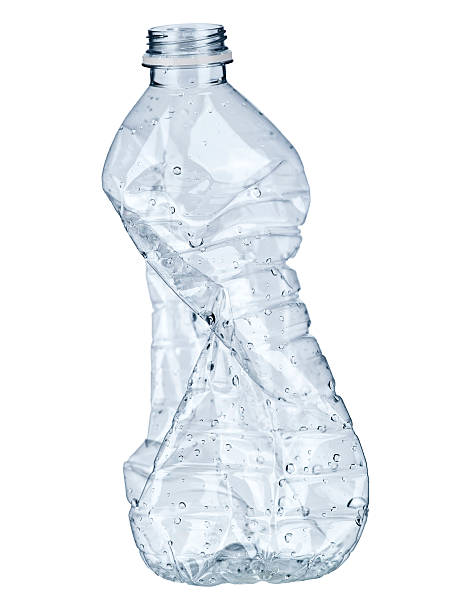plastic_bottle: (101, 22, 368, 587)
